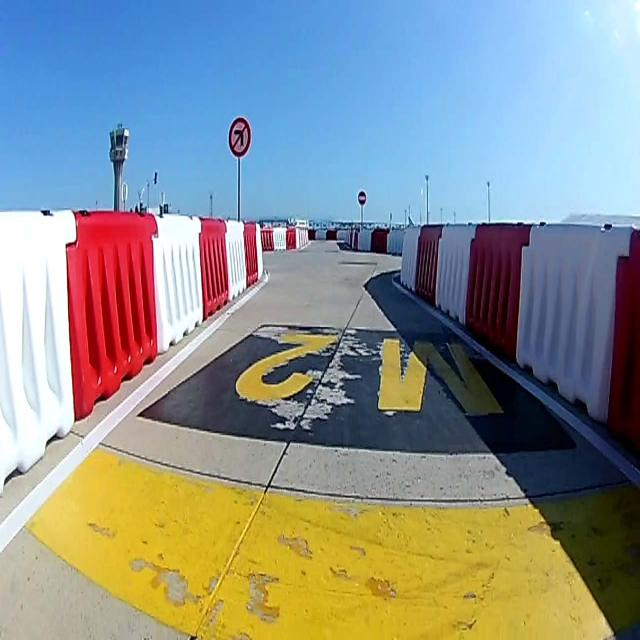girisyok: (358, 189, 368, 206)
soladonulmez: (228, 116, 252, 160)
